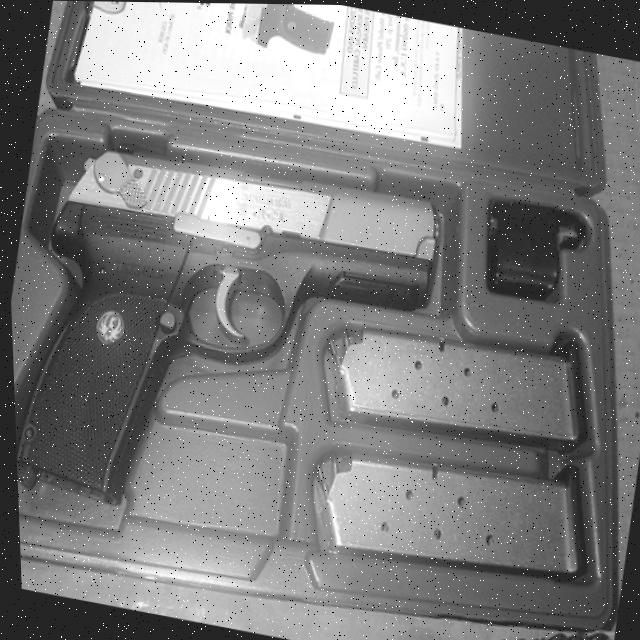pistol: (3, 115, 457, 566), (230, 3, 338, 57)
